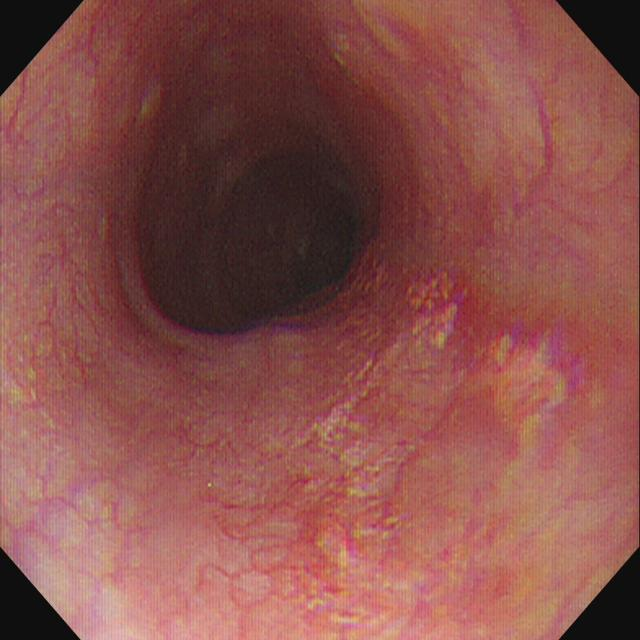E: (228, 180, 343, 291)
U: (409, 274, 458, 349)
